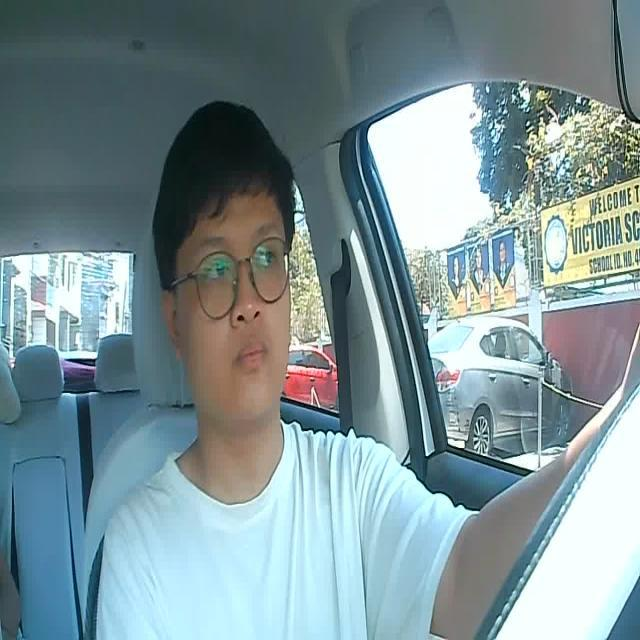Attentive: (151, 98, 297, 414)
Eye-Open: (201, 258, 234, 284), (255, 248, 278, 272)
Normal: (236, 339, 274, 374)
